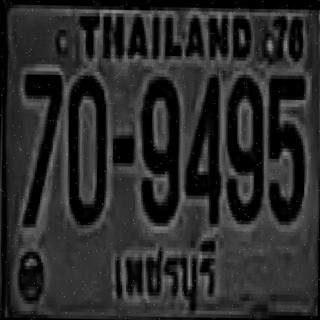N00: (65, 72, 106, 222)
N04: (183, 72, 221, 222)
N05: (264, 72, 304, 222)
N07: (20, 71, 62, 224)
N09: (224, 71, 264, 221), (138, 73, 178, 219)
P44: (108, 240, 221, 314)
